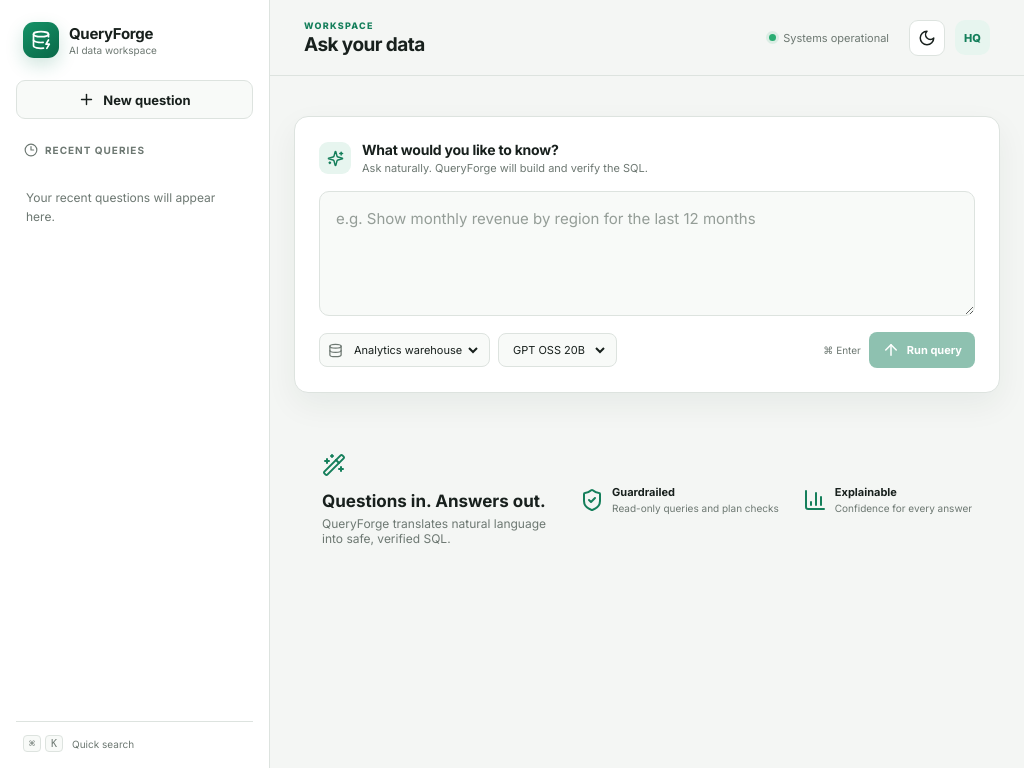
Test: QueryForge dashboard › runs a natural-language query and renders SQL, rows, confidence, and warnings
In the text box named "Natural language question": (647, 254) [319, 191, 975, 316], type "Revenue by region"
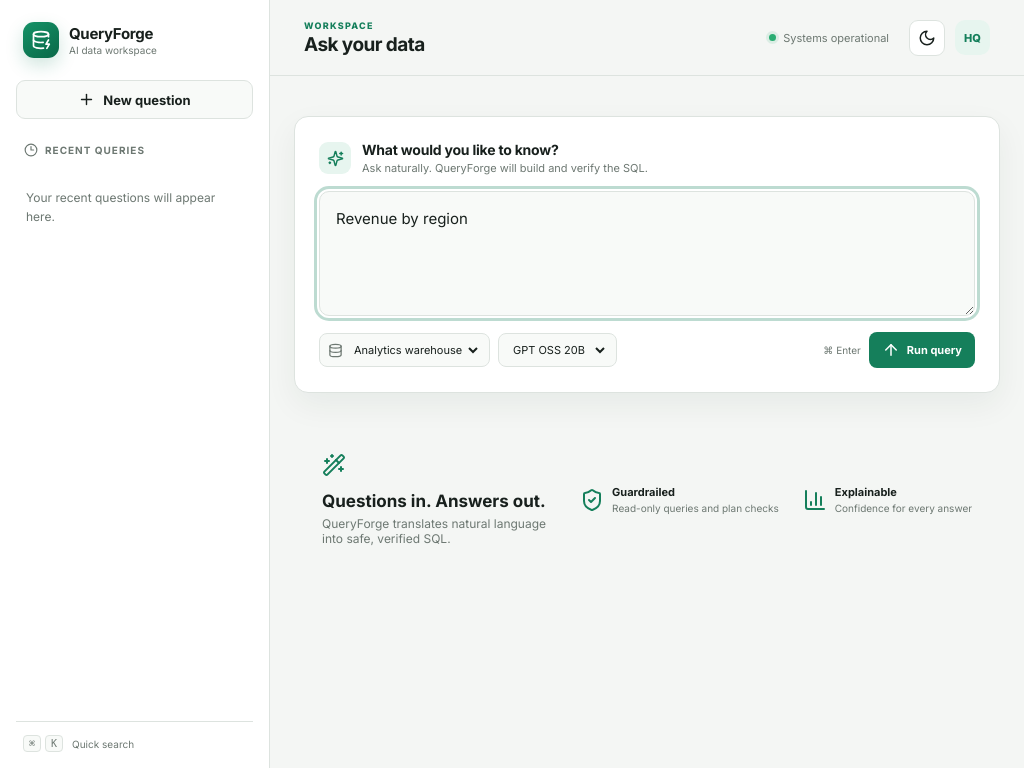
Click the button "Run query": click(922, 350) [869, 332, 975, 368]
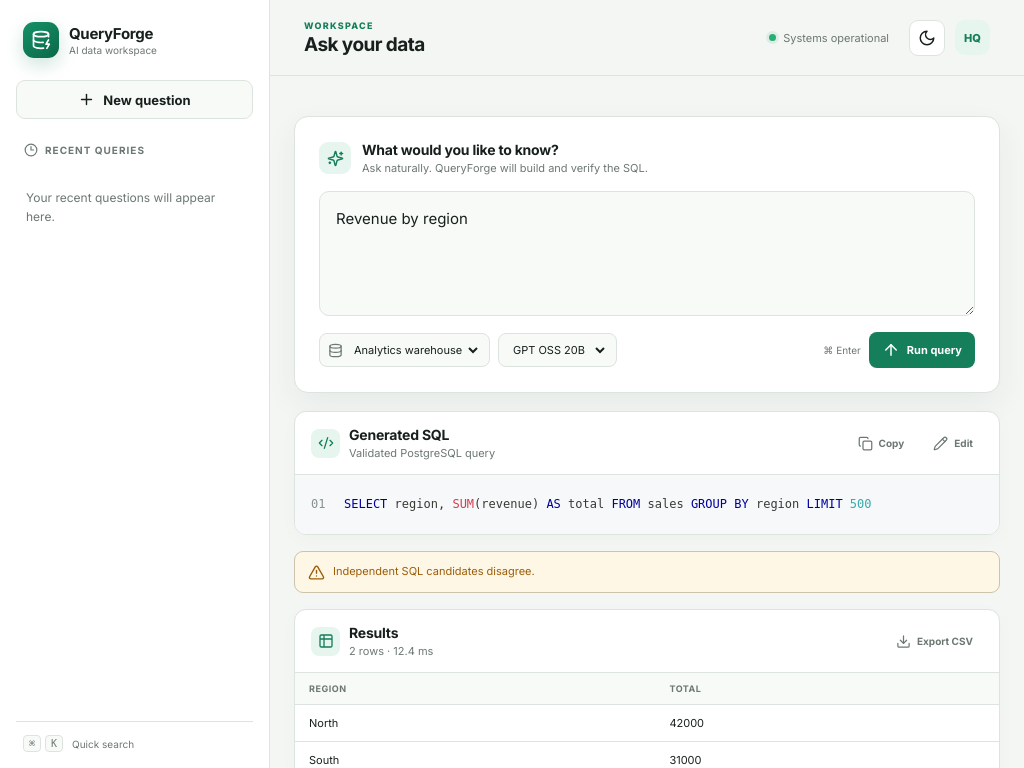
Expected: the heading "Generated SQL" is shown, [349, 426, 449, 443]
Expected: the text "North" is shown, [295, 704, 655, 742]
Expected: the text "Independent SQL candidates disagree." is shown, [333, 563, 535, 580]
